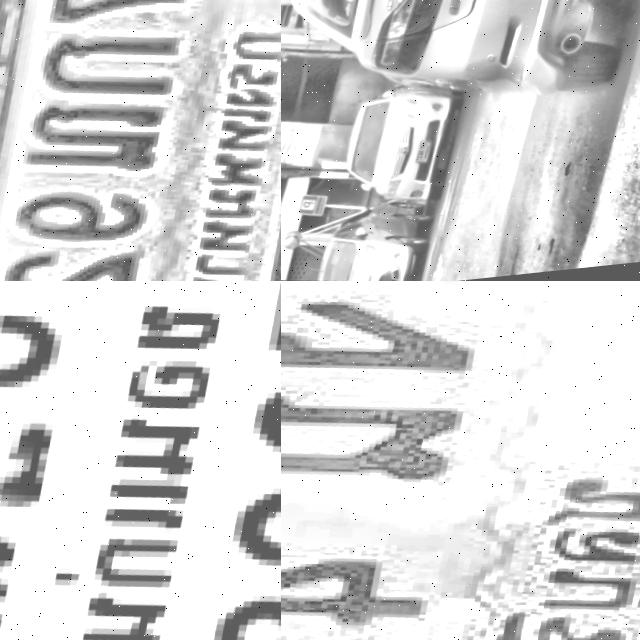license-plate: (281, 281, 640, 640), (0, 281, 281, 640), (0, 0, 281, 281), (419, 141, 442, 172)
